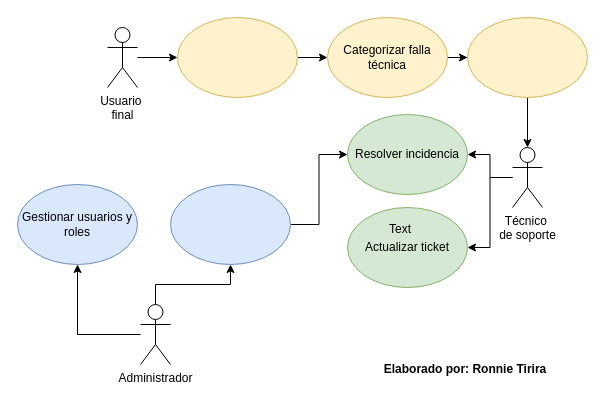
Image size: 605x403. Some labels were removed from this diagram. The shapes that lost their labels are listed below. From the top down, each one's centre as x and y in pixels, then its label:
[237,57]: Crea Ticket
[527,57]: Asignar técnico de soporte
[230,224]: Supervisar incidencia
